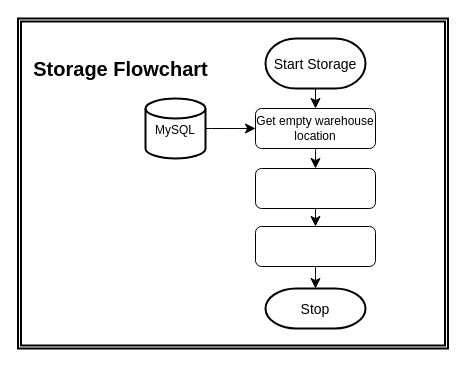
This 466x366 diagram has some shape labels left out. Each missing label, with the centre of its shape:
Pick and Place to Warehouse: (x=315, y=188)
Update Database: (x=315, y=246)
